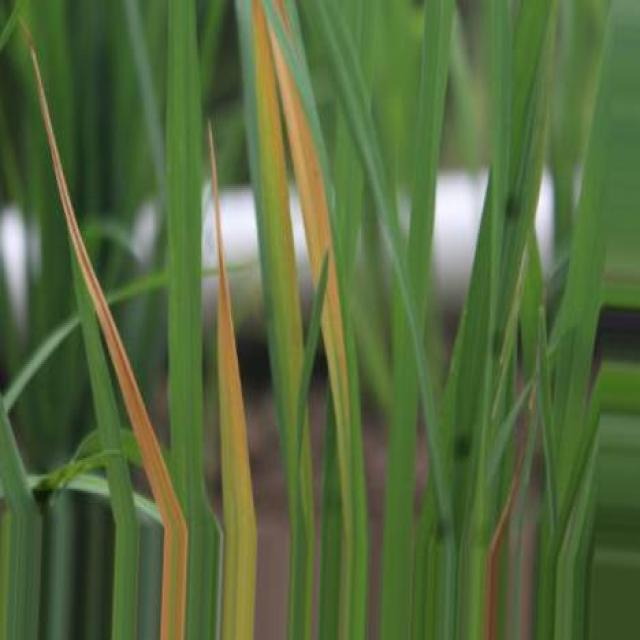Rice Tungro: (23, 24, 186, 638), (261, 0, 368, 638), (253, 0, 314, 639), (209, 123, 256, 638)
